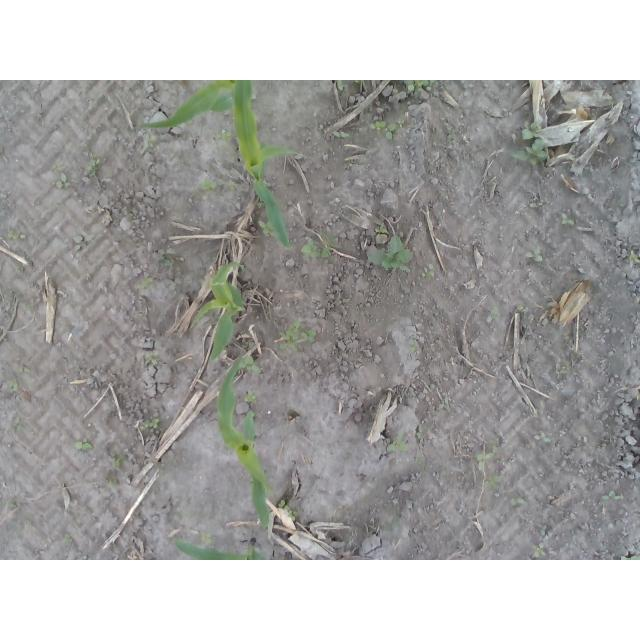Maize: (230, 81, 301, 252), (218, 359, 271, 531), (190, 259, 246, 361), (138, 80, 235, 133), (174, 537, 271, 560)
Weeds: (366, 233, 412, 275), (510, 119, 547, 169), (276, 319, 317, 353), (367, 118, 405, 146), (301, 230, 336, 258), (0, 369, 32, 396), (475, 438, 498, 470), (52, 161, 73, 191), (384, 430, 409, 455), (190, 177, 224, 195), (238, 356, 265, 375), (399, 80, 434, 93), (71, 438, 97, 455), (85, 151, 101, 178), (278, 498, 297, 520), (158, 248, 177, 268), (71, 234, 94, 250), (214, 128, 234, 145), (600, 489, 625, 502), (480, 474, 498, 491), (527, 249, 546, 265), (112, 452, 129, 469), (258, 220, 274, 237), (145, 134, 160, 151), (9, 419, 27, 433), (533, 432, 552, 445), (144, 353, 160, 368), (560, 212, 577, 226), (529, 543, 546, 557), (512, 496, 529, 509), (144, 417, 161, 430), (422, 264, 435, 281), (6, 229, 26, 240), (137, 278, 155, 290), (200, 531, 214, 546), (332, 130, 353, 140), (447, 128, 458, 145), (242, 392, 256, 405), (490, 304, 500, 321), (225, 180, 238, 193), (626, 253, 640, 264), (408, 336, 417, 353), (559, 363, 571, 375), (376, 225, 389, 236), (336, 80, 345, 93), (62, 534, 72, 545), (23, 303, 33, 312), (544, 296, 553, 305), (414, 430, 422, 440), (621, 556, 640, 560)
